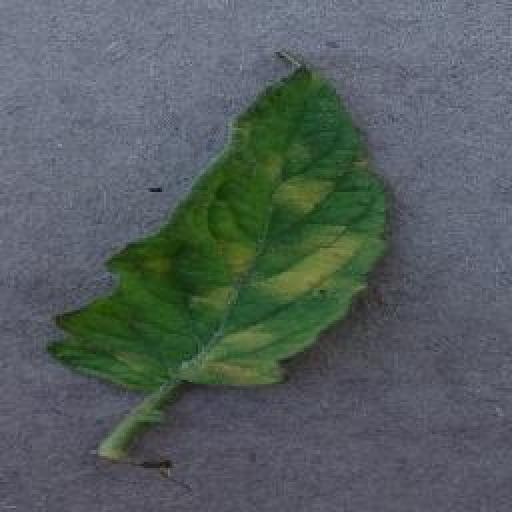disease_tomato: (50, 47, 391, 388)
